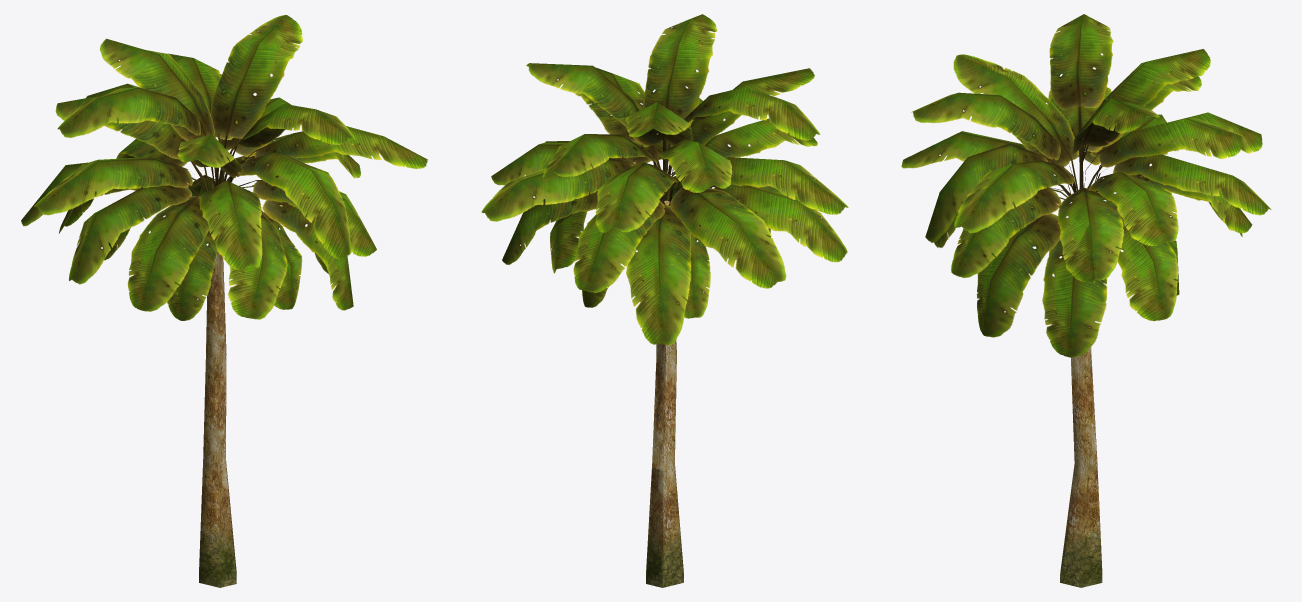
The model's file is ph_tree6.glb.
3 views of the same model, side by side, from view 1: azimuth 30°, elevation 25°; view 2: azimuth 150°, elevation 25°; view 3: azimuth 270°, elevation 25° (orthographic).
Parts seen in each view (by area): view 1: ph_tree6; view 2: ph_tree6; view 3: ph_tree6.
Part boxes in pixels (x1,y1,x2,y2): ph_tree6: (21, 15, 427, 587); ph_tree6: (481, 14, 848, 587); ph_tree6: (901, 14, 1271, 587).
Size of the model in its own units: 9.05 by 12.57 by 8.69.
Materials: 2 (2 with a texture image).
